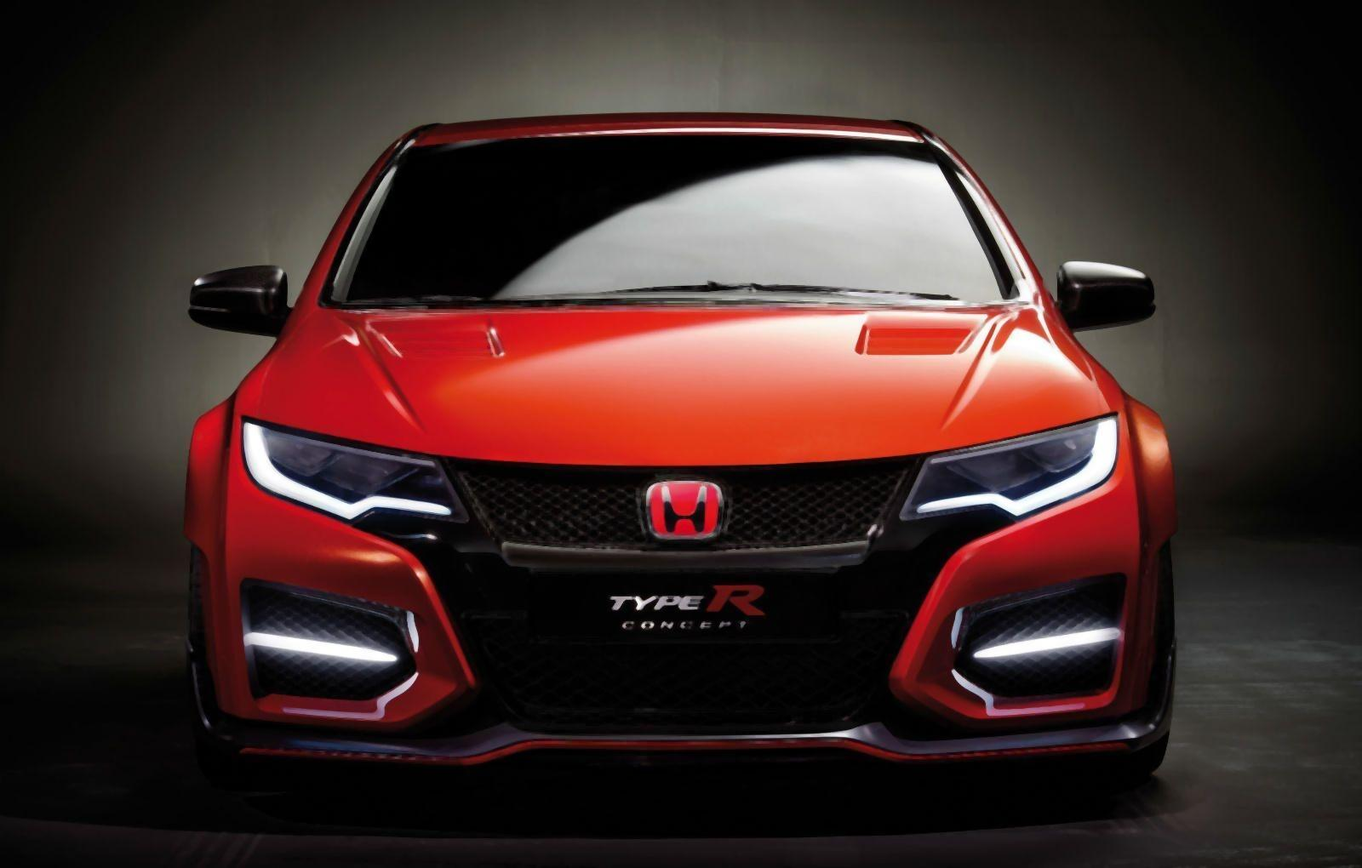Car hood: (219, 288, 1126, 478)
Front bumper: (175, 455, 1183, 775)
Headlight - -L-: (893, 407, 1124, 539)
Headlight - -R-: (231, 409, 478, 543)
Side mirror - -L-: (1049, 260, 1159, 338)
Side mirror - -R-: (185, 254, 288, 343)
